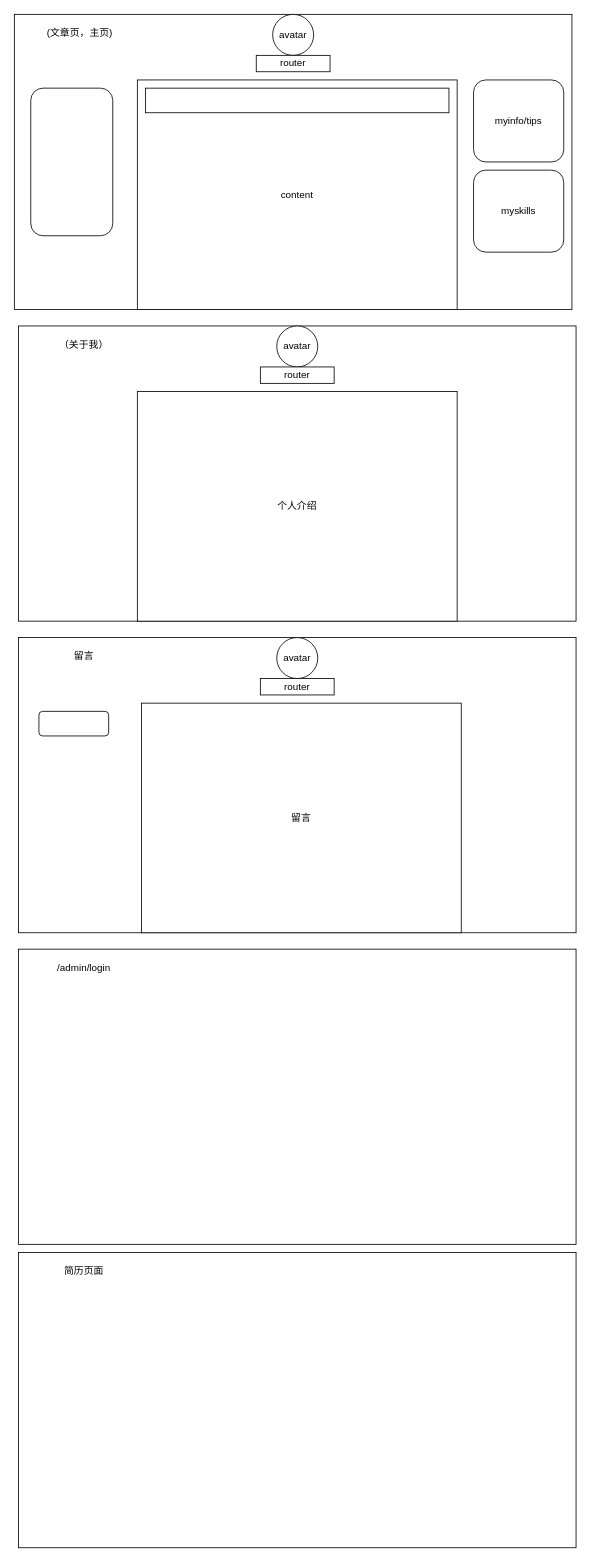
Image size: 590x1562. Some labels were removed from this diagram. The shapes that lost their labels are listed below. From the top down, each one's centre as x and y in pixels, then its label:
At pixel 297 100: "article-list-item".
At pixel 71 161: "快速索引".
At pixel 73 723: "tips".
